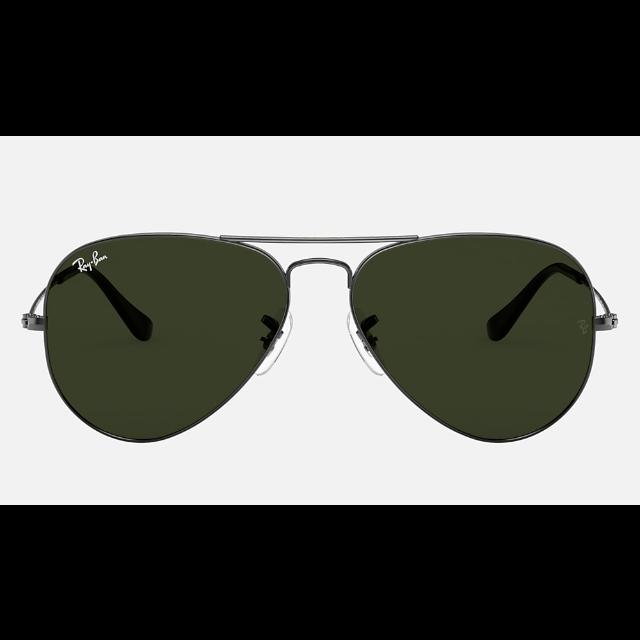Sunglasses: (21, 228, 620, 444)
